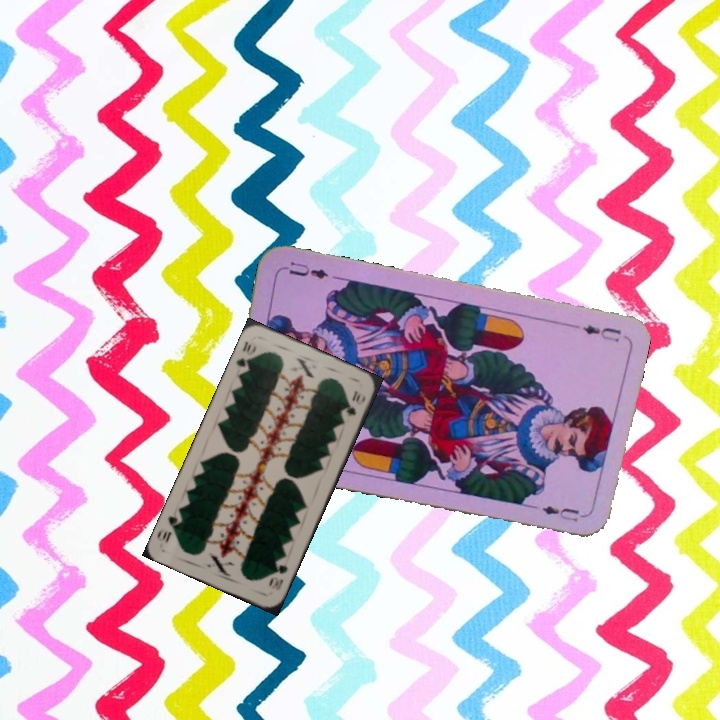EU: (579, 321, 624, 345)
G10: (232, 337, 259, 376), (265, 559, 290, 593)
